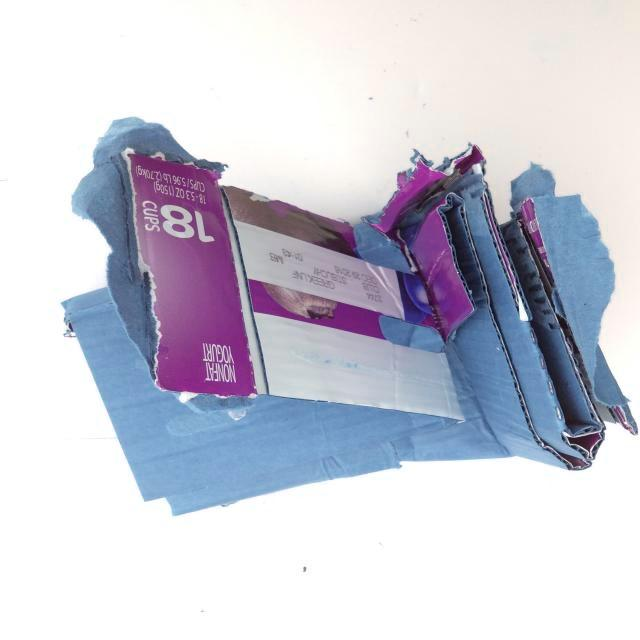cardboard: (39, 102, 640, 520)
